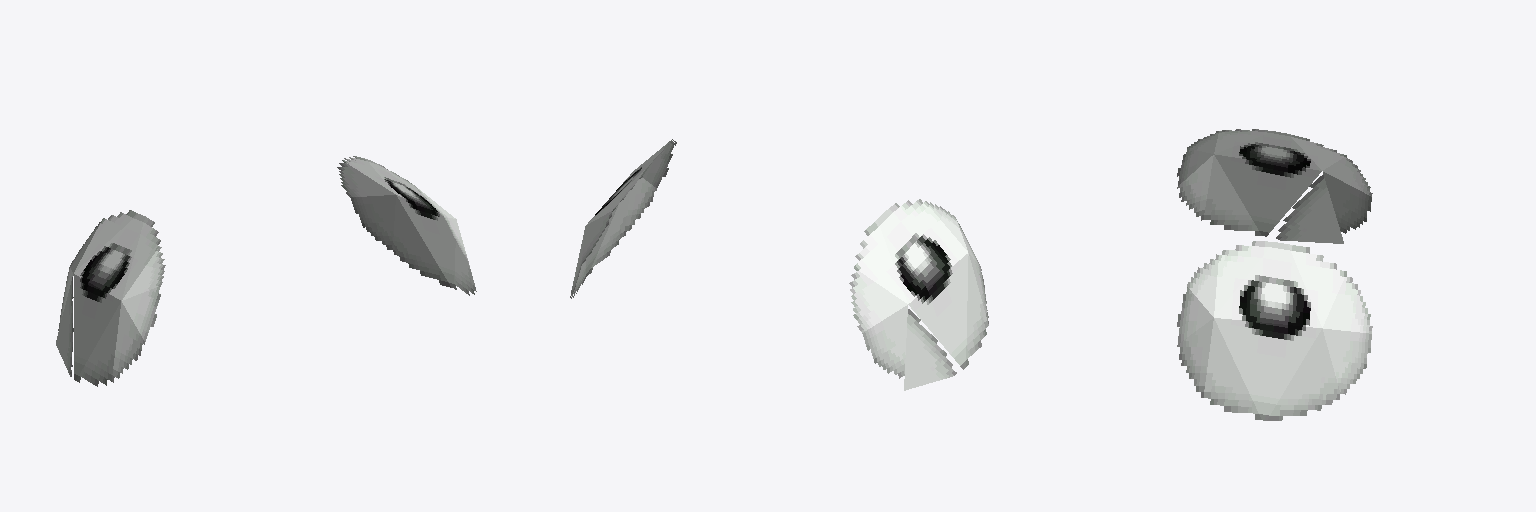
The picture shows the model from 3 angles: view 1: azimuth 30°, elevation 25°; view 2: azimuth 150°, elevation 25°; view 3: azimuth 270°, elevation 25°; orthographic projection.
Visible parts, largest first — view 1: porygon2; view 2: porygon2; view 3: porygon2.
Boxes of the visible parts, x1,y1,x2,y2 form: porygon2: [56, 156, 476, 386]; porygon2: [570, 139, 988, 390]; porygon2: [1177, 129, 1372, 420].
Size of the model in its own units: 2.75 by 1.05 by 1.36.
1 materials, 1 textured.